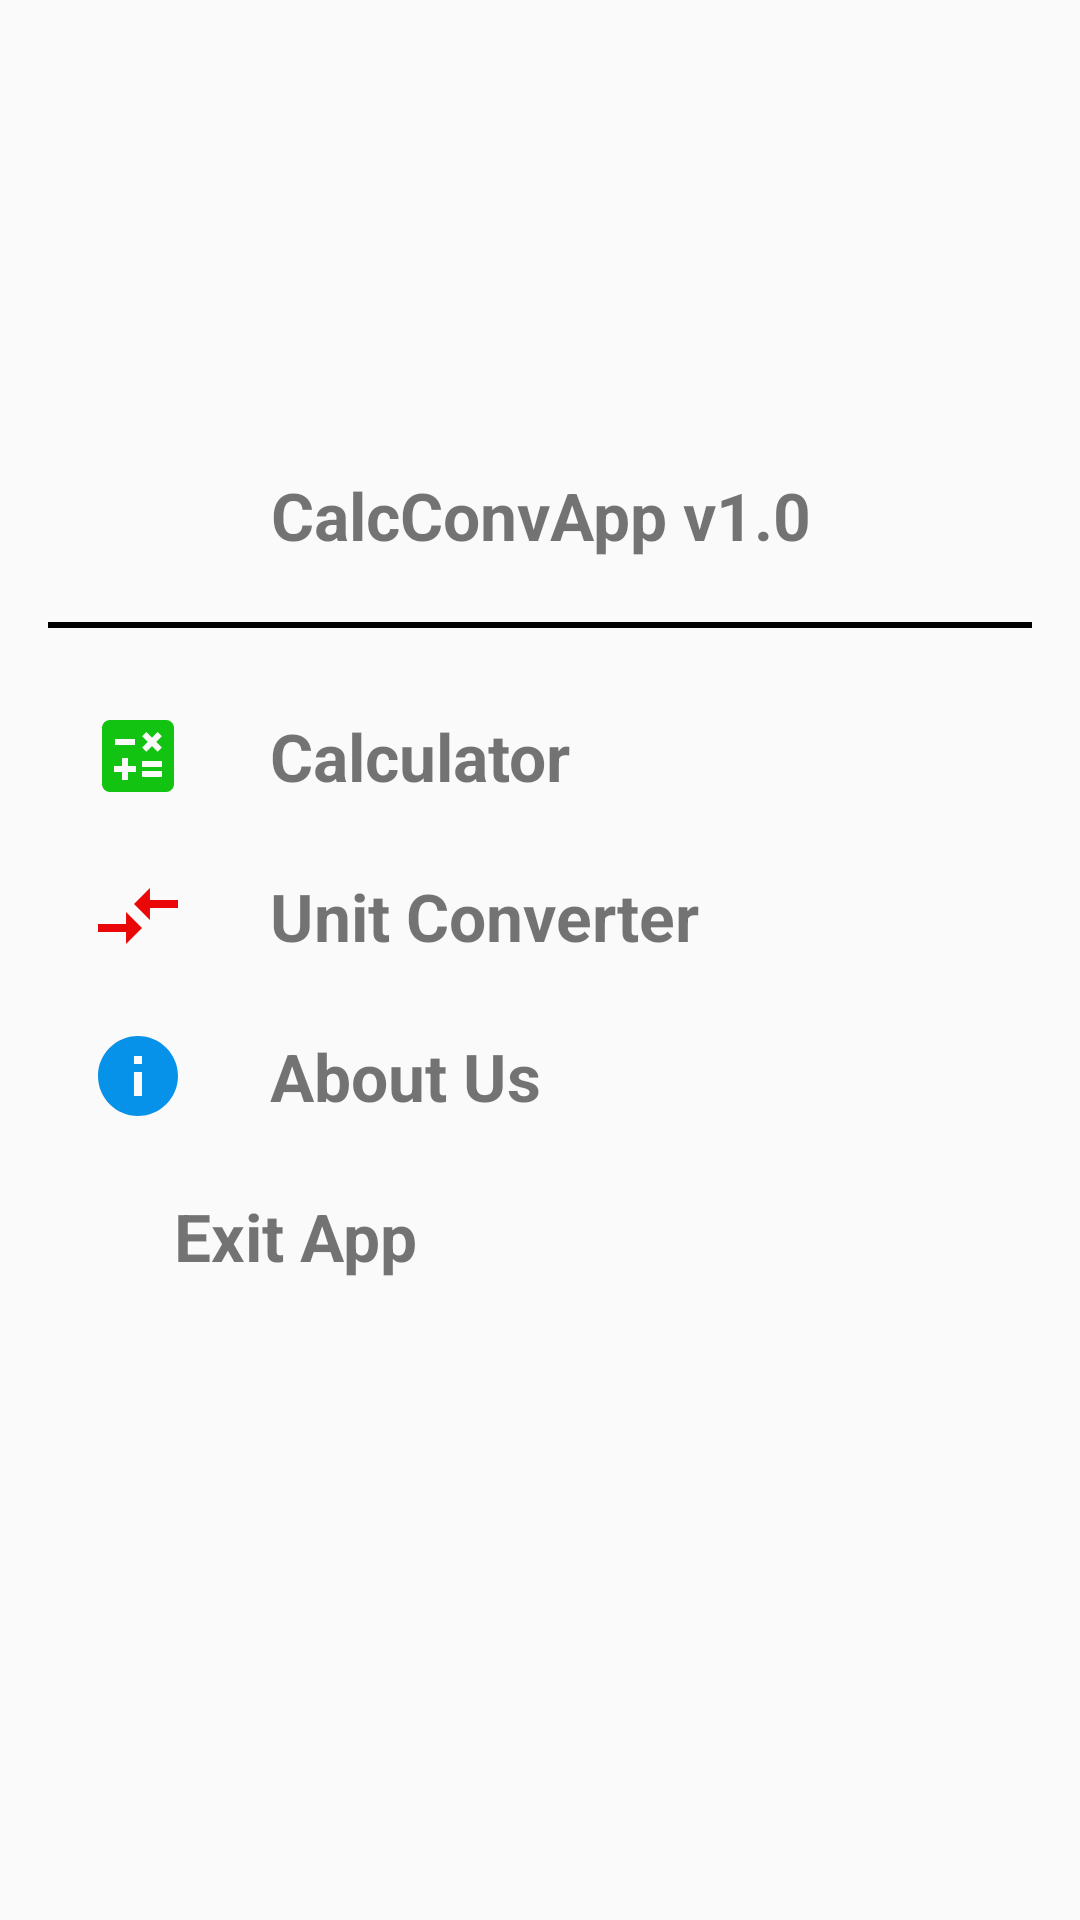

Where icons sit on this 1080 x 1920 app screen, as bbox(x1, y1, x2, y2):
basiccalculate: bbox(102, 720, 174, 792)
